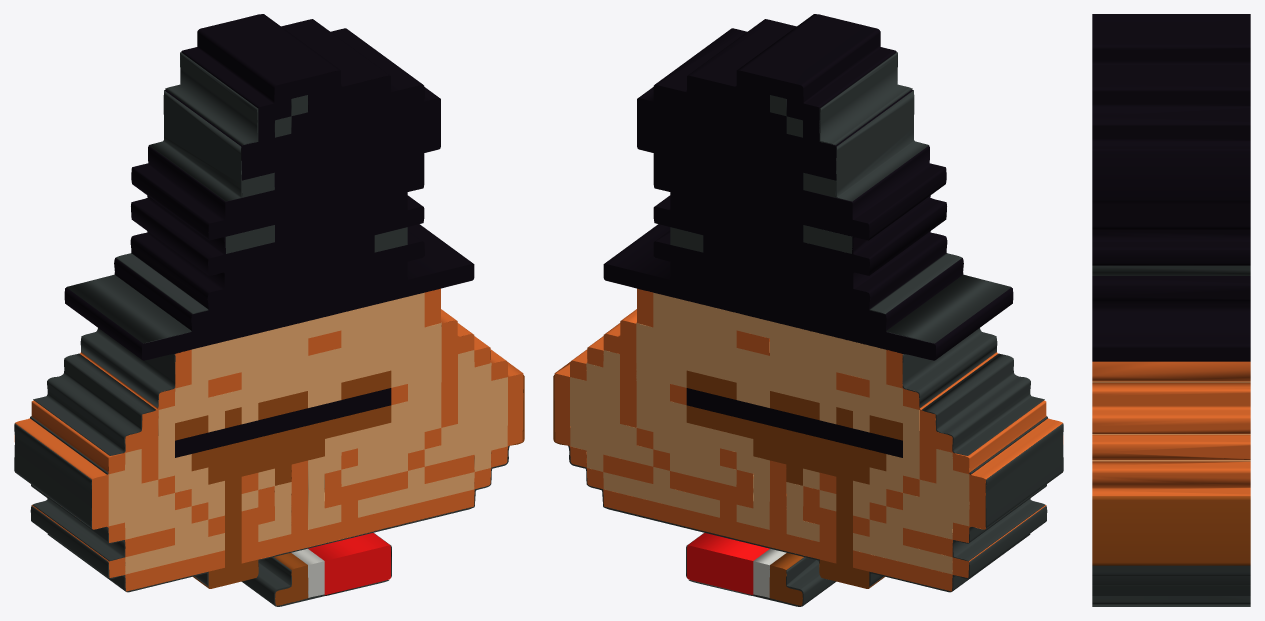
Rendered from Toadz_741.glb.
3 renders of one model, left to right at view 1: azimuth 30°, elevation 25°; view 2: azimuth 150°, elevation 25°; view 3: azimuth 270°, elevation 25°, orthographic. The views are drawn at different scales.
Parts seen in each view (by area): view 1: Curve; view 2: Curve; view 3: Curve.
Part boxes in pixels (x1,y1,x2,y2): Curve: (14,14,524,606); Curve: (553,14,1063,606); Curve: (1092,14,1250,606).
Size of the model in its own units: 3.24 by 3.74 by 1.
